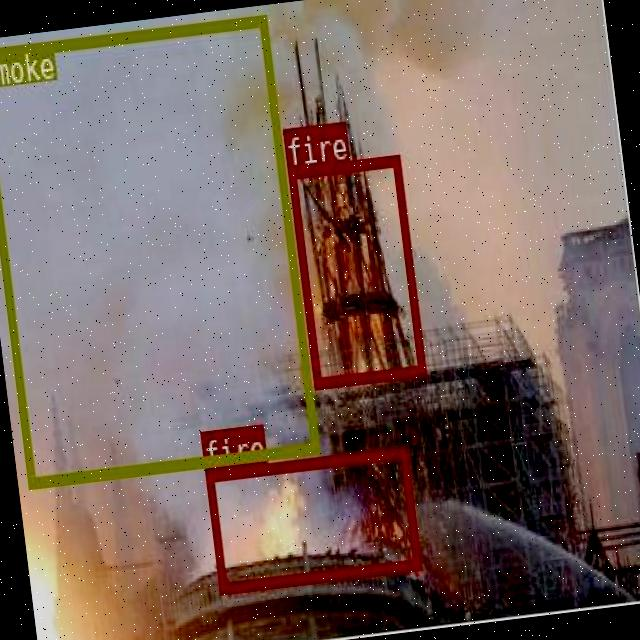fire: (287, 154, 424, 388), (204, 445, 419, 591)
smoke: (0, 13, 318, 486)
